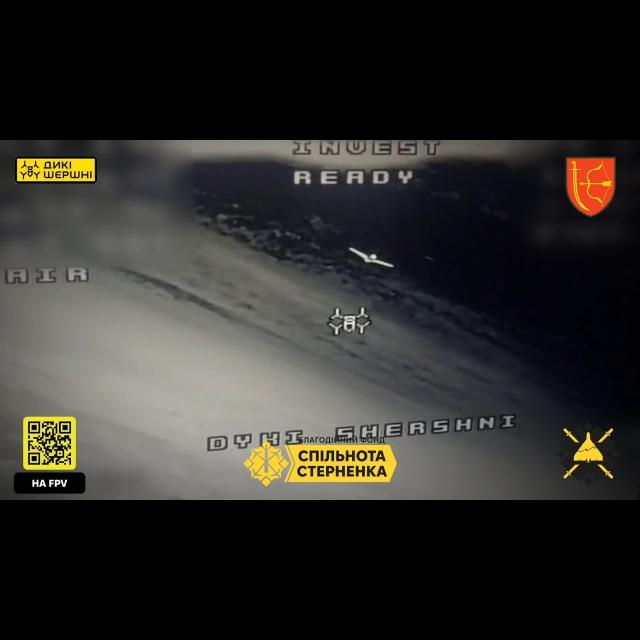Gerbera: (348, 246, 394, 268)
